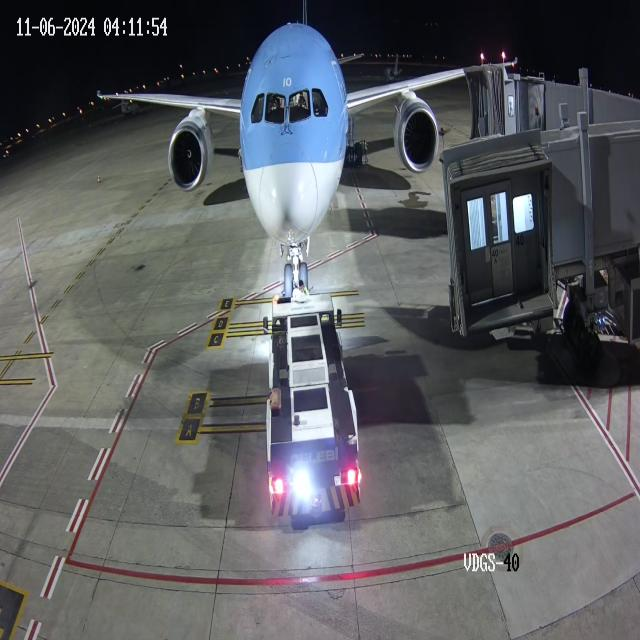bridge: (488, 54, 548, 142)
plane: (86, 0, 438, 298)
window: (246, 77, 334, 132)
